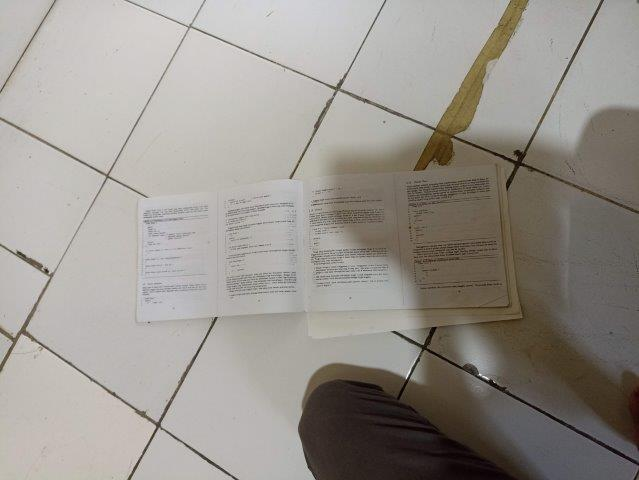kertas: (136, 163, 523, 339)
